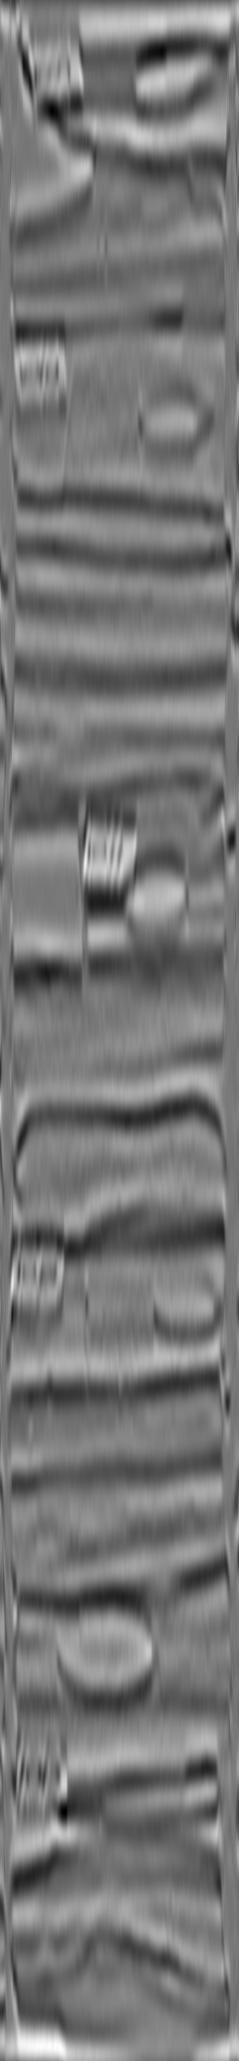hplug: (127, 371, 217, 456), (116, 860, 194, 942), (123, 46, 211, 118), (143, 1271, 222, 1349)
scal: (54, 1604, 162, 1705)
vplug: (17, 820, 95, 977), (14, 380, 74, 501), (43, 1284, 95, 1385)
